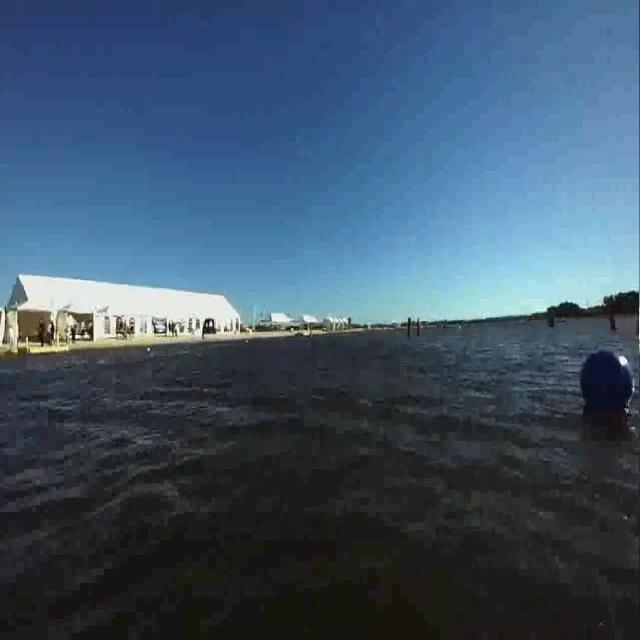black-buoy: (579, 348, 634, 416)
